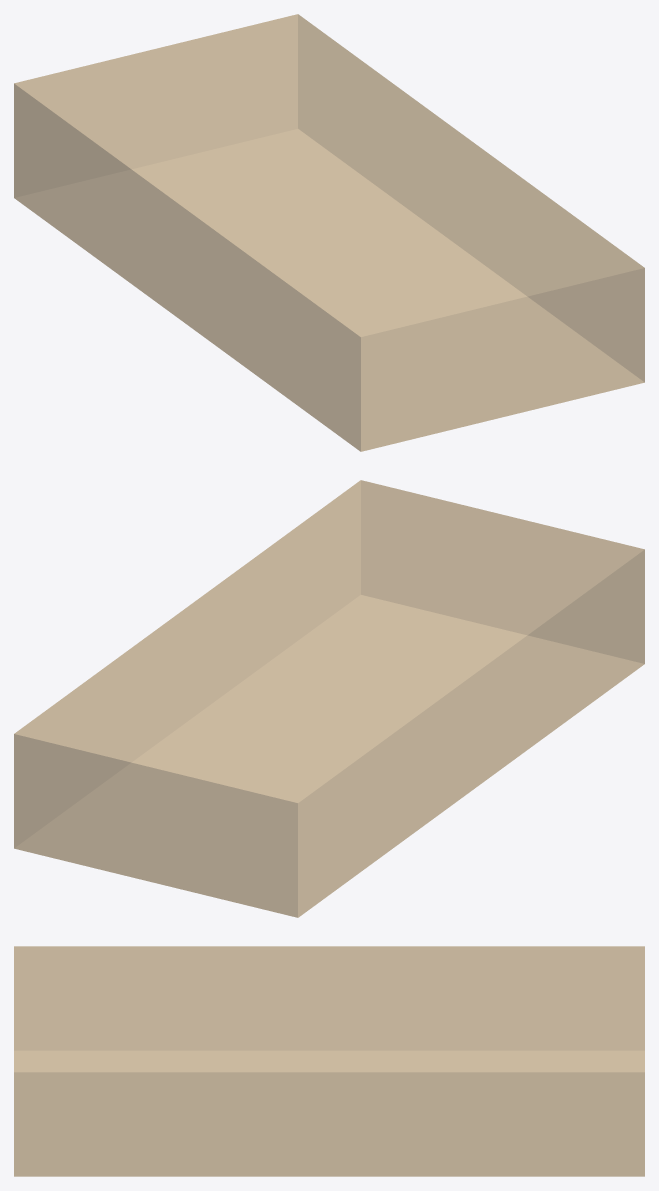
Rendered from blockout.glb.
3 views of the same model, one above another, from view 1: azimuth 30°, elevation 25°; view 2: azimuth 150°, elevation 25°; view 3: azimuth 270°, elevation 25° (orthographic). The views are drawn at different scales.
Visible parts, largest first — view 1: C02_ENVELOPE_NOT_FINAL_MESH; view 2: C02_ENVELOPE_NOT_FINAL_MESH; view 3: C02_ENVELOPE_NOT_FINAL_MESH.
Boxes of the visible parts, left/top/right/bottom form: C02_ENVELOPE_NOT_FINAL_MESH: left=14, top=14, right=644, bottom=451; C02_ENVELOPE_NOT_FINAL_MESH: left=14, top=480, right=644, bottom=917; C02_ENVELOPE_NOT_FINAL_MESH: left=14, top=946, right=644, bottom=1176.
Size of the model in its own units: 3.5 by 1.35 by 7.4.
